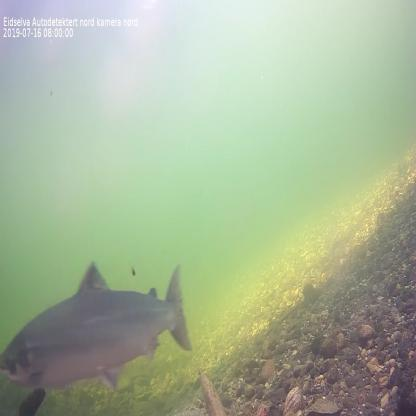salmon: (0, 257, 196, 398)
